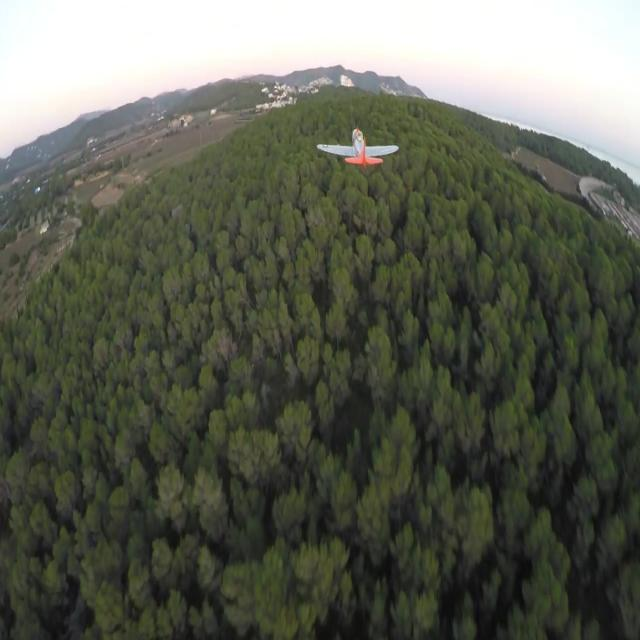iha: (347, 126, 368, 169)
